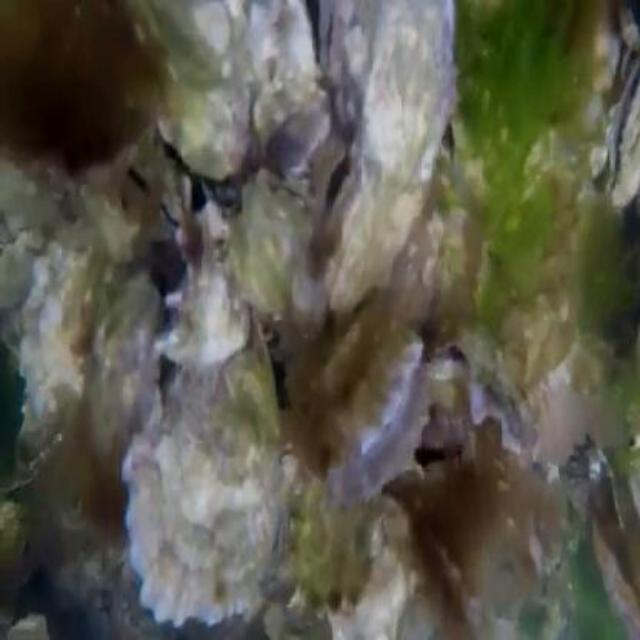Oyster-Closed: (125, 310, 285, 632), (319, 0, 460, 318), (0, 0, 167, 170), (140, 0, 252, 174), (87, 277, 161, 478), (161, 203, 250, 367), (232, 166, 322, 322), (255, 73, 325, 168)
Oyster-Open: (285, 290, 432, 506), (428, 326, 545, 462), (594, 450, 638, 638), (129, 146, 188, 245), (609, 57, 638, 209)
